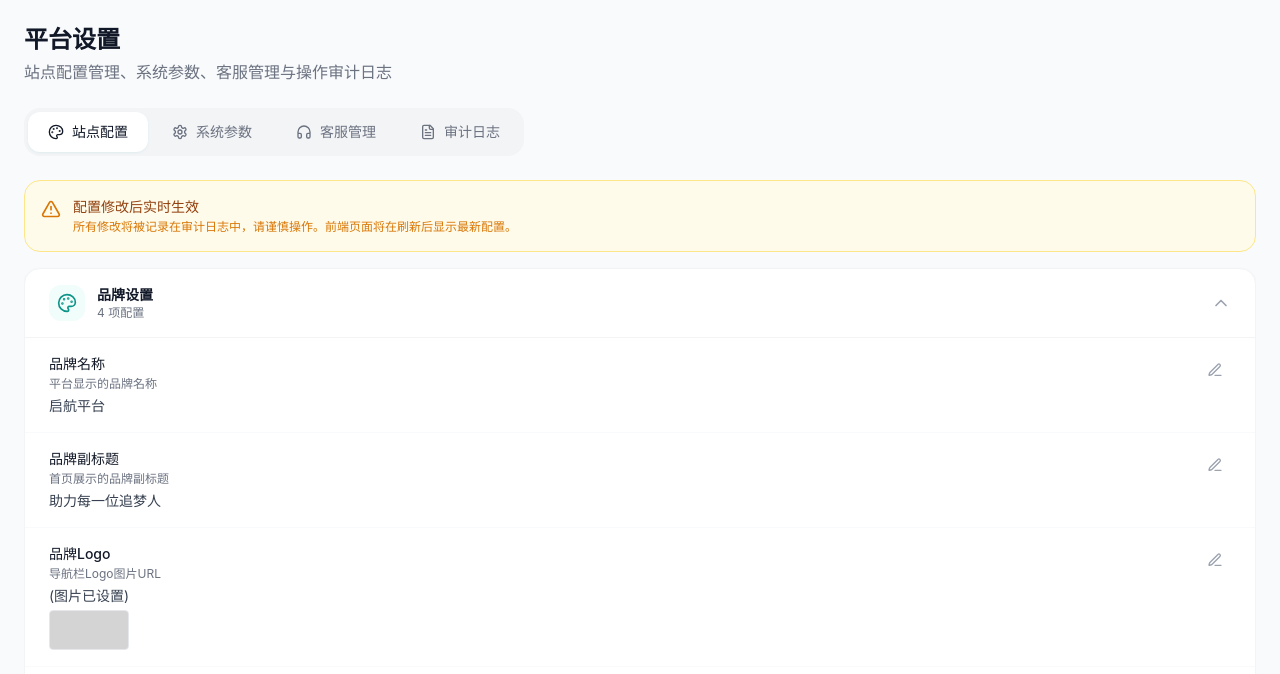
Test: AdminSettings › 配置保存 (saveConfig) › 异常：保存失败时显示错误信息
The image size is (1280, 674).
Expected: the button "站点配置" is shown, [28, 112, 148, 152]
Click the button without text in the row of "平台显示的品牌名称": coordinates (1215, 370) [1199, 354, 1231, 386]
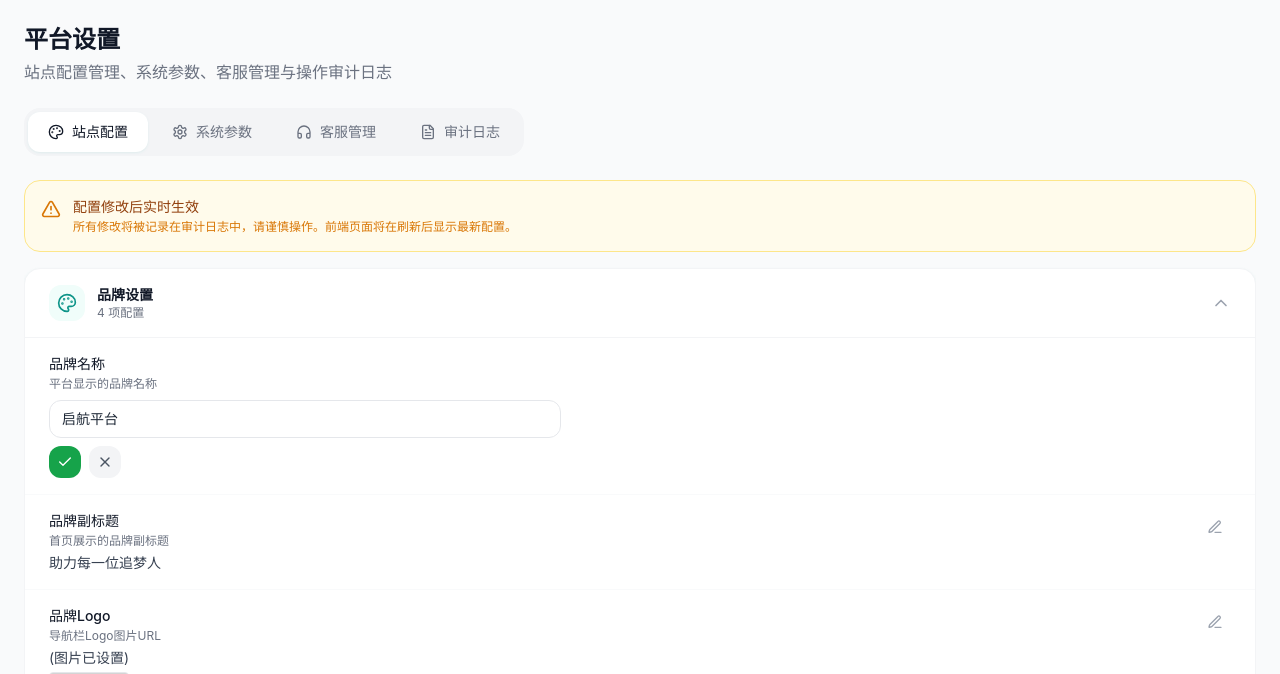
Click the 6th button: coordinates (65, 462) [49, 446, 81, 478]
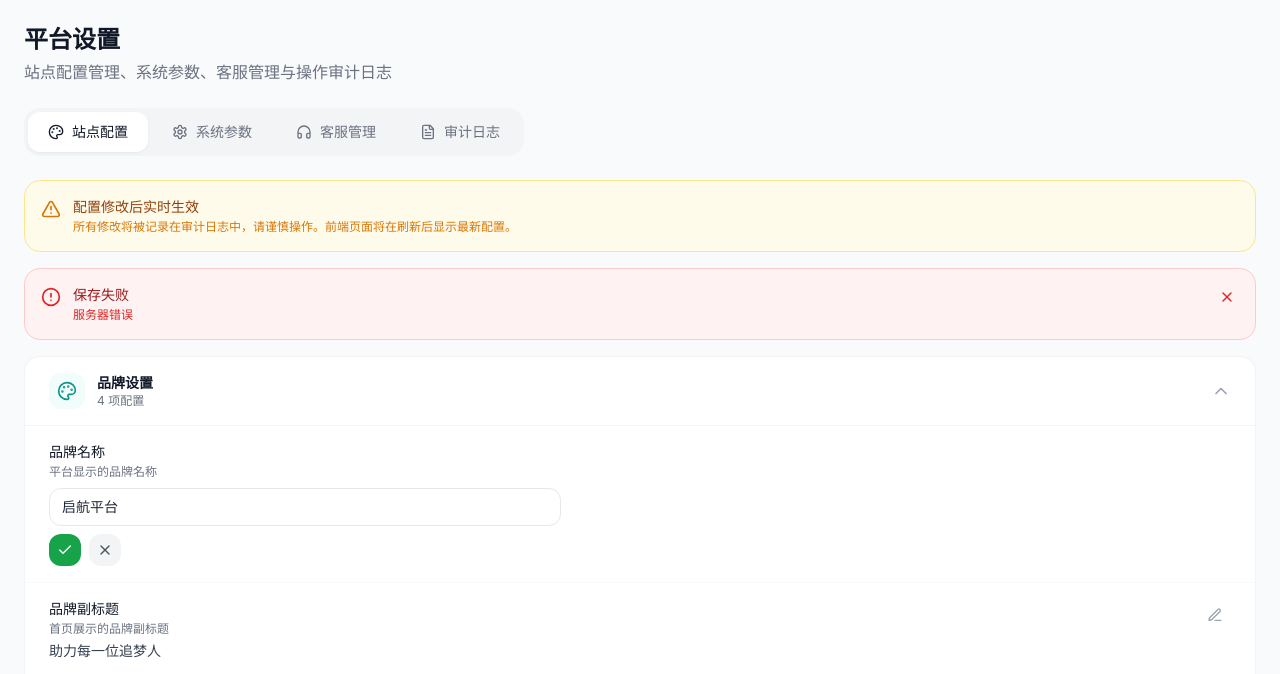
Expected: the text "保存失败" is shown, [73, 285, 133, 305]
